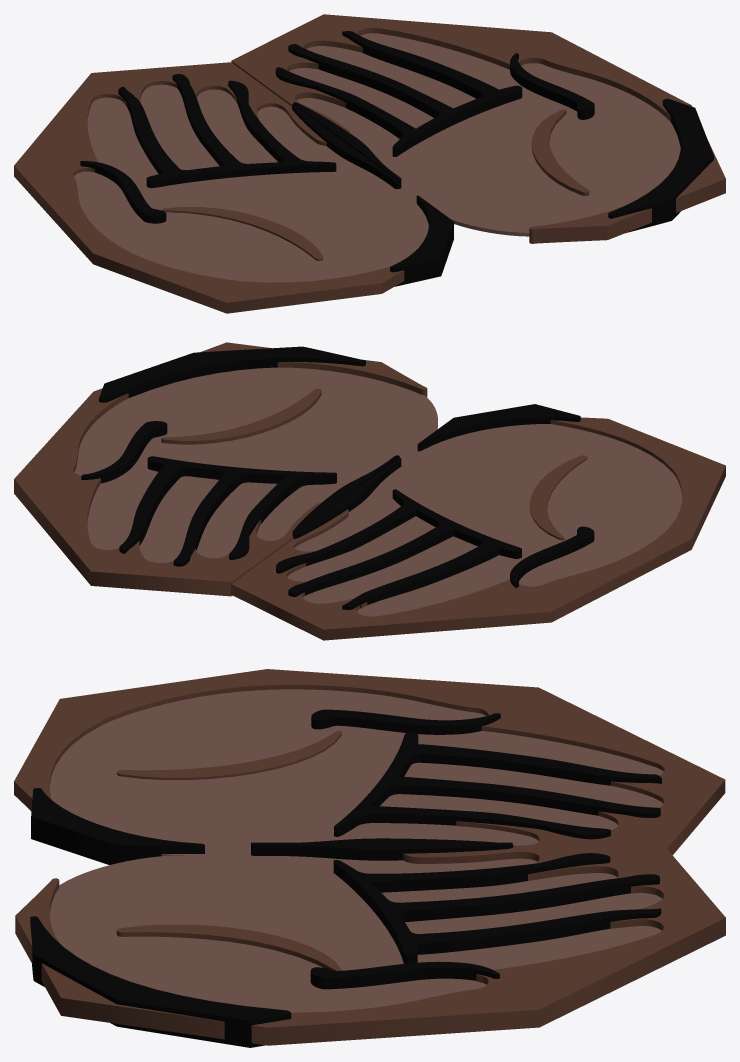
Rendered from emoji_u1f932_1f3ff.glb.
3 renders of one model, top to bottom at view 1: azimuth 30°, elevation 25°; view 2: azimuth 150°, elevation 25°; view 3: azimuth 270°, elevation 25°, orthographic. The views are drawn at different scales.
Visible parts, largest first — view 1: emoji_u1f932_1f3ff; view 2: emoji_u1f932_1f3ff; view 3: emoji_u1f932_1f3ff.
Part boxes in pixels (box(x1,y1,x2,y2)): emoji_u1f932_1f3ff: box(14, 14, 725, 313); emoji_u1f932_1f3ff: box(14, 342, 725, 640); emoji_u1f932_1f3ff: box(14, 669, 725, 1047).
Bounding box in the file's own units: 0.0347 × 0.0012 × 0.0289.
